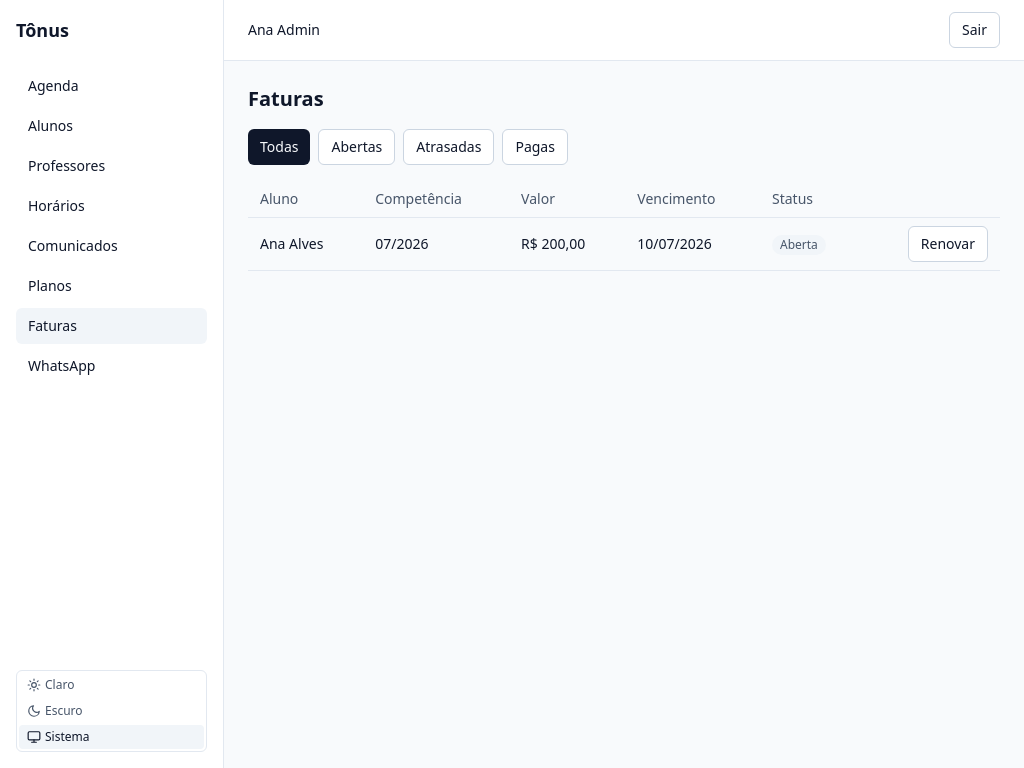
it: renovar › não deixa repetir a renovação depois do 409
Click the button with aria-label "Renovar a fatura de Ana Alves".
click(948, 244)  # box 908,226 -> 988,262
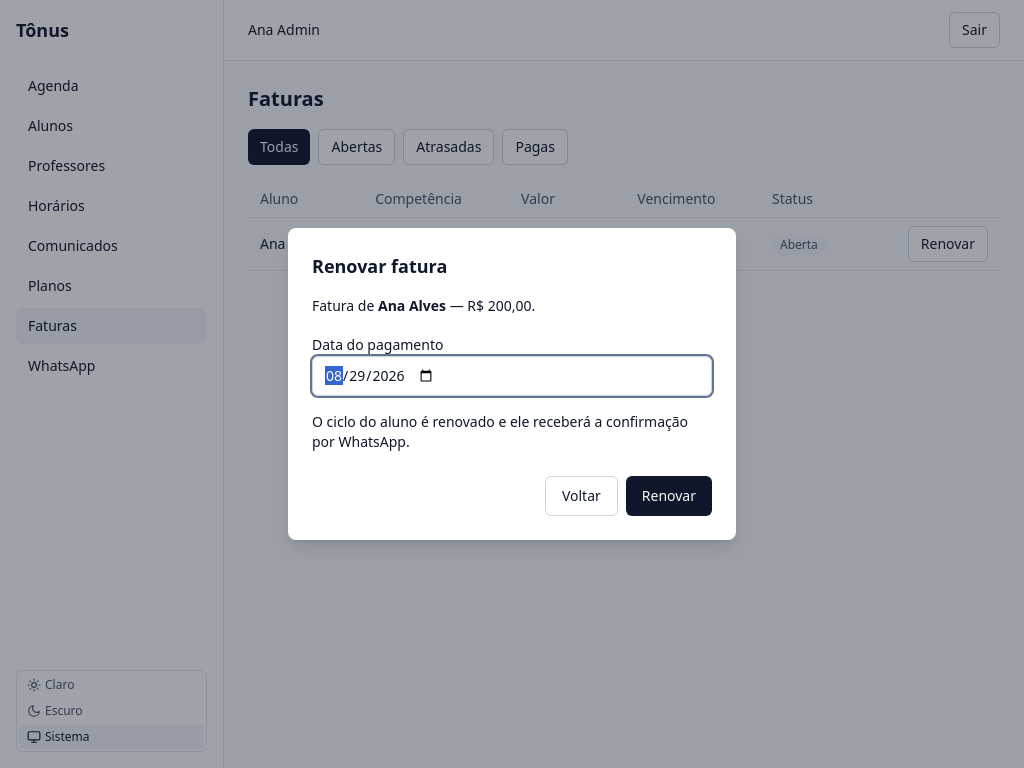
Click the button "Renovar".
click(669, 496)  # box 626,476 -> 712,516
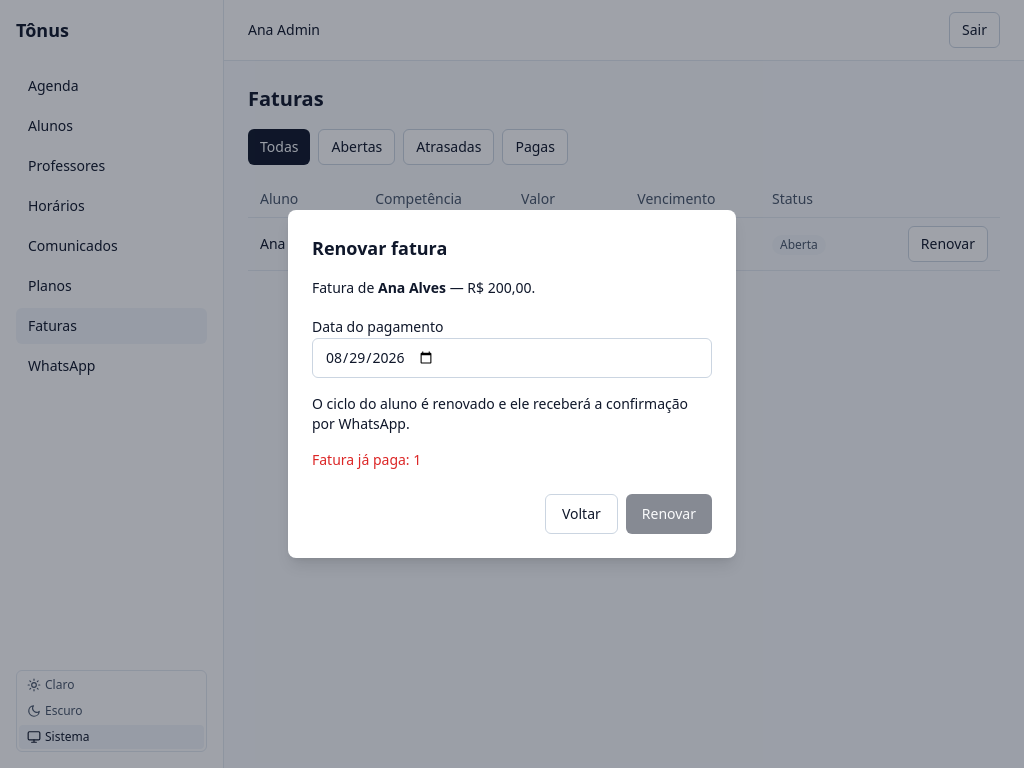
Expected: the button "Voltar" is enabled, 545,494 -> 618,534
Expected: the text "Fatura já paga: 1" is shown, 312,450 -> 421,469
Expected: the button "Renovar" is disabled, 626,494 -> 712,534
